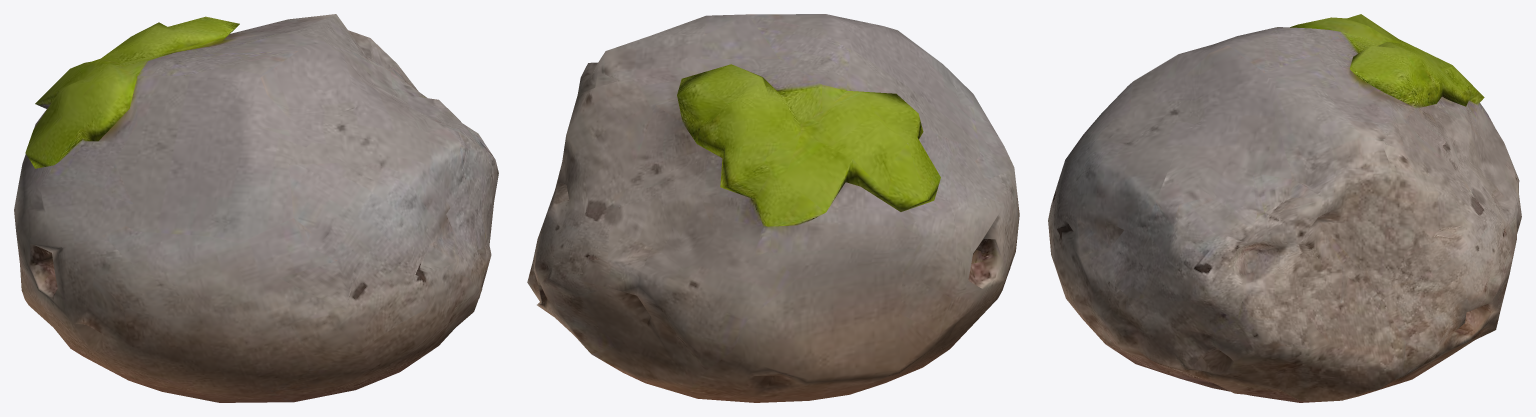
File: prop-boulder.glb
3 renders of one model, left to right at view 1: azimuth 30°, elevation 25°; view 2: azimuth 150°, elevation 25°; view 3: azimuth 270°, elevation 25°, orthographic. The views are drawn at different scales.
Parts seen in each view (by area): view 1: tripo_node_a5bd6ab3-e77f-4f81-a5e9-9cb221097c32; view 2: tripo_node_a5bd6ab3-e77f-4f81-a5e9-9cb221097c32; view 3: tripo_node_a5bd6ab3-e77f-4f81-a5e9-9cb221097c32.
Boxes of the visible parts, bbox=[...] form: tripo_node_a5bd6ab3-e77f-4f81-a5e9-9cb221097c32: bbox=[14, 14, 498, 402]; tripo_node_a5bd6ab3-e77f-4f81-a5e9-9cb221097c32: bbox=[527, 14, 1019, 402]; tripo_node_a5bd6ab3-e77f-4f81-a5e9-9cb221097c32: bbox=[1048, 14, 1521, 402].
Bounding box in the file's own units: 0.9729 × 0.6693 × 0.9807.
Materials: 1 (1 with a texture image).
